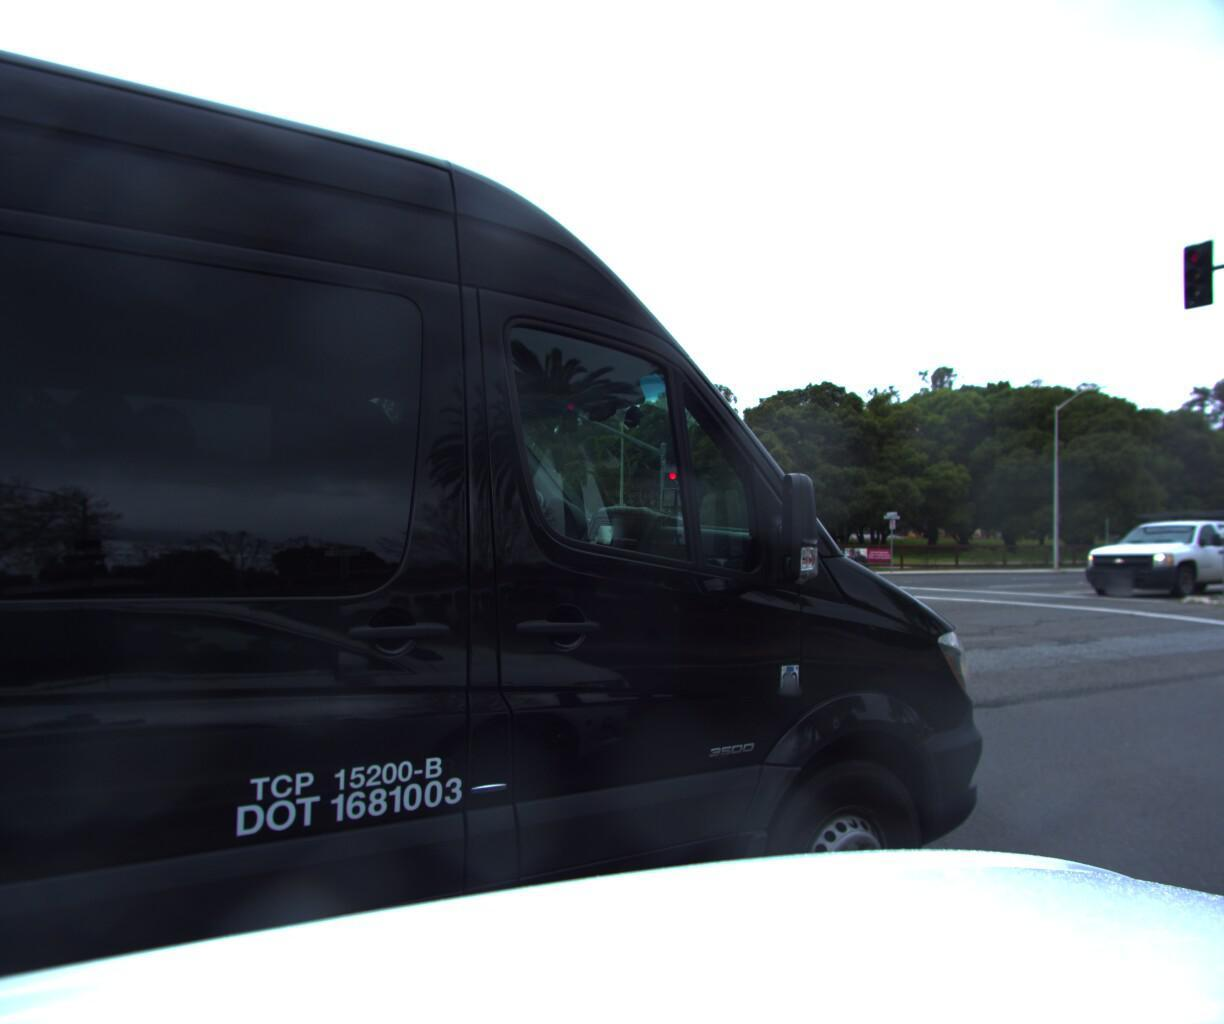car: (1070, 500, 1224, 601)
